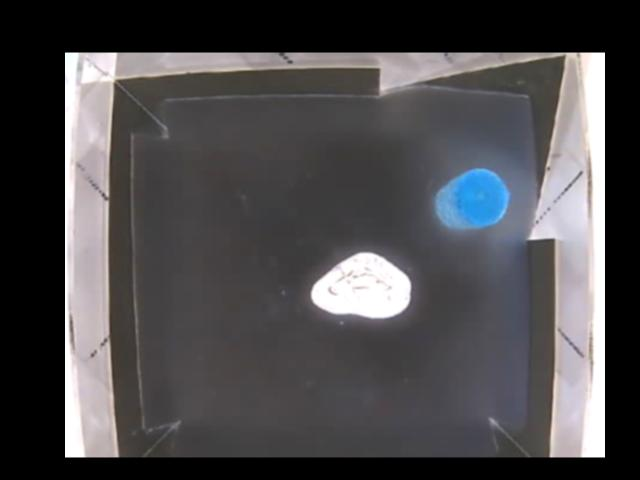Carrot: (435, 166, 512, 231)
Pebble: (309, 252, 410, 316)
